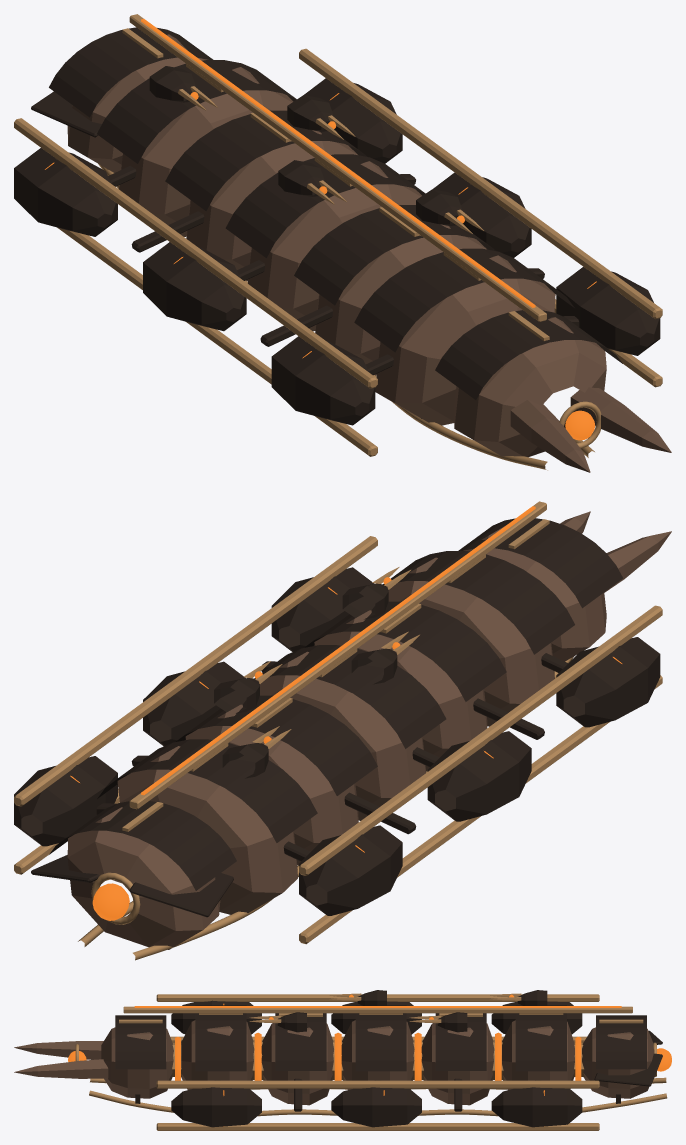
Rendered from garmes.glb.
3 views of the same model, one above another, from view 1: azimuth 30°, elevation 25°; view 2: azimuth 150°, elevation 25°; view 3: azimuth 270°, elevation 25° (orthographic). The views are drawn at different scales.
Parts seen in each view (by area): view 1: hull2, hull, trim, team_glow; view 2: hull2, hull, trim, team_glow; view 3: hull2, trim, hull, team_glow.
Boxes of the visible parts, x1,y1,x2,y2 form: hull2: (14,27,660,428); hull: (67,34,671,472); trim: (14,14,662,470); team_glow: (45,19,596,440); hull2: (14,518,660,917); hull: (67,511,671,949); trim: (14,501,662,960); team_glow: (70,506,622,920); hull2: (115,990,662,1127); trim: (75,993,667,1130); hull: (14,1020,654,1105); team_glow: (68,994,671,1126).
Bounding box in the file's own units: 4.33 × 1.93 × 11.25.
